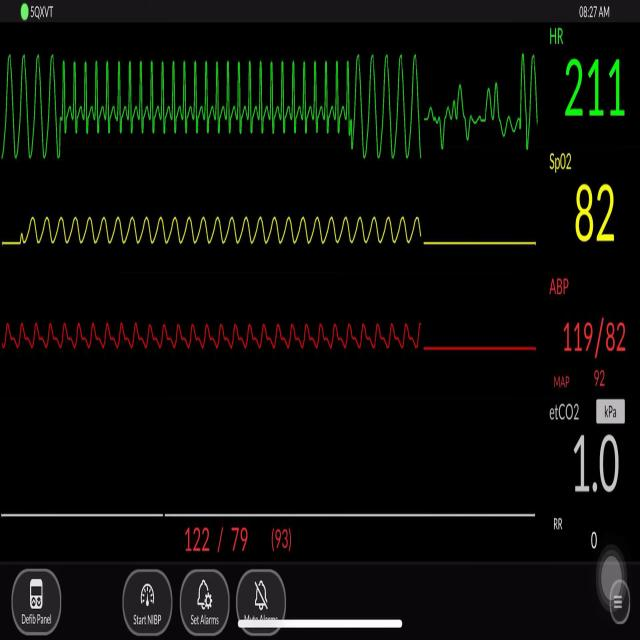danger: (58, 43, 350, 148), (360, 43, 430, 177), (7, 43, 58, 180)
